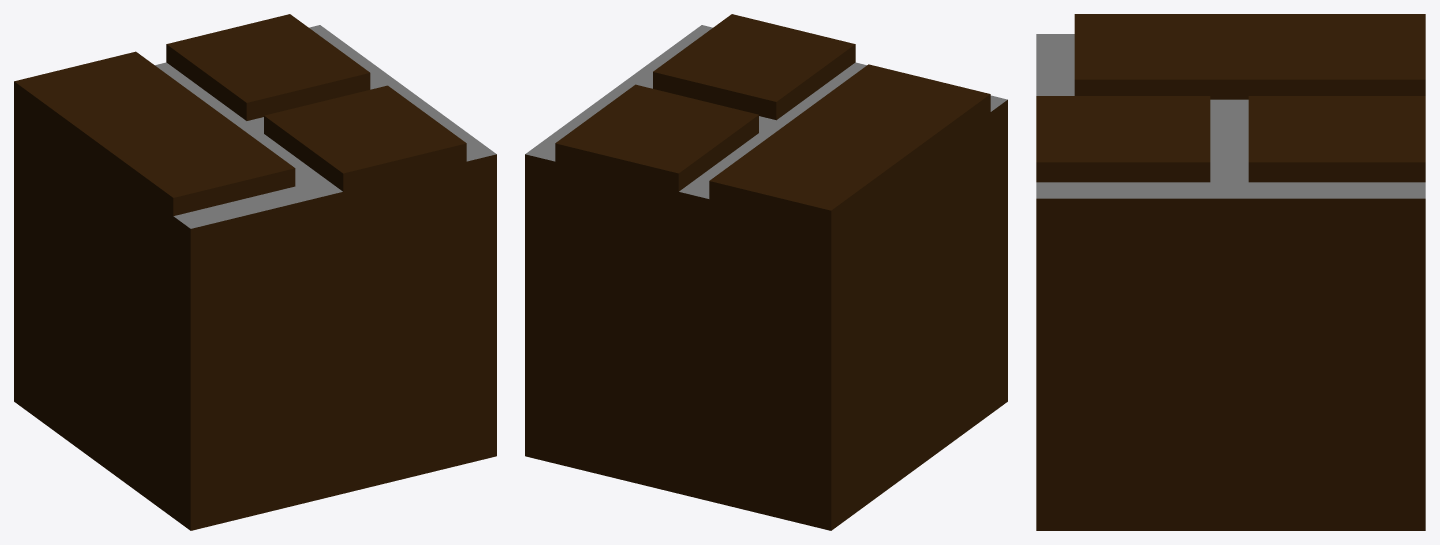
Rendered from wall_3.glb.
The picture shows the model from 3 angles, left to right: view 1: azimuth 30°, elevation 25°; view 2: azimuth 150°, elevation 25°; view 3: azimuth 270°, elevation 25°; orthographic projection. The views are drawn at different scales.
Visible parts, largest first — view 1: wall_3; view 2: wall_3; view 3: wall_3.
Boxes of the visible parts, x1=… form: wall_3: x1=14, y1=14, x2=496, y2=530; wall_3: x1=525, y1=14, x2=1007, y2=530; wall_3: x1=1036, y1=14, x2=1425, y2=530.
Bounding box in the file's own units: 1 × 0.9998 × 1.
Materials: 1 (1 with a texture image).
